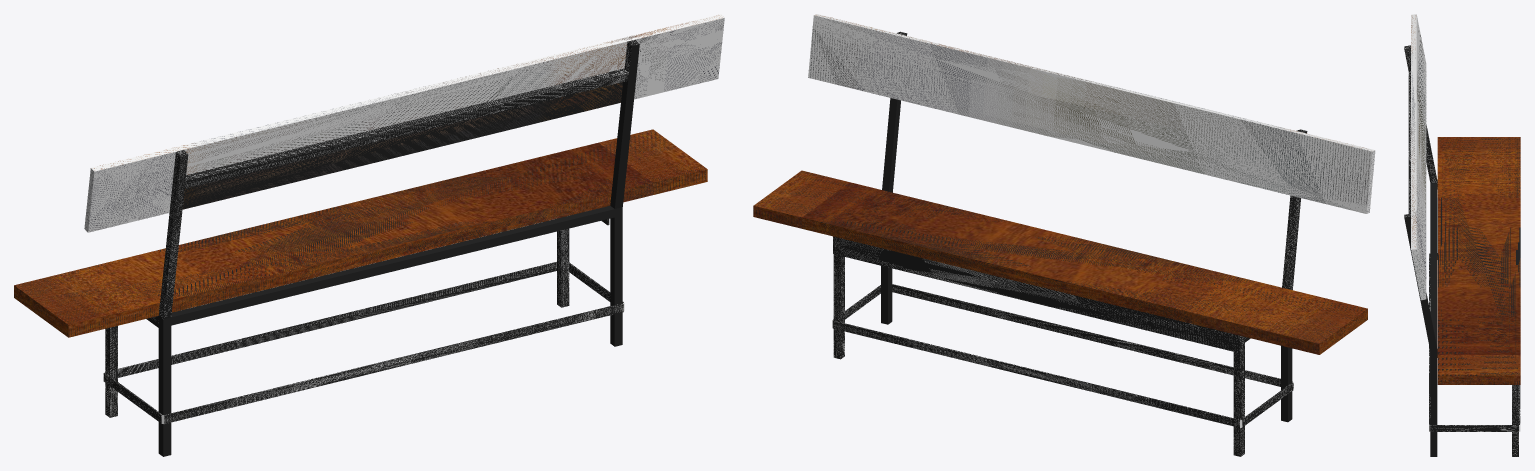
3 views of the same model, side by side, from view 1: azimuth 30°, elevation 25°; view 2: azimuth 150°, elevation 25°; view 3: azimuth 270°, elevation 25° (orthographic). The views are drawn at different scales.
Visible parts, largest first — view 1: mesh9_mesh9-geometry, mesh1_mesh1-geometry; view 2: mesh9_mesh9-geometry, mesh1_mesh1-geometry; view 3: mesh1_mesh1-geometry, mesh9_mesh9-geometry.
Part boxes in pixels (box(x1,y1,x2,y2)): mesh9_mesh9-geometry: box(84, 14, 724, 456); mesh1_mesh1-geometry: box(14, 129, 707, 337); mesh9_mesh9-geometry: box(808, 14, 1375, 456); mesh1_mesh1-geometry: box(753, 170, 1367, 354); mesh1_mesh1-geometry: box(1437, 137, 1520, 384); mesh9_mesh9-geometry: box(1404, 14, 1520, 456).
Bounding box in the file's own units: 0.889 × 0.4195 × 0.1834.
